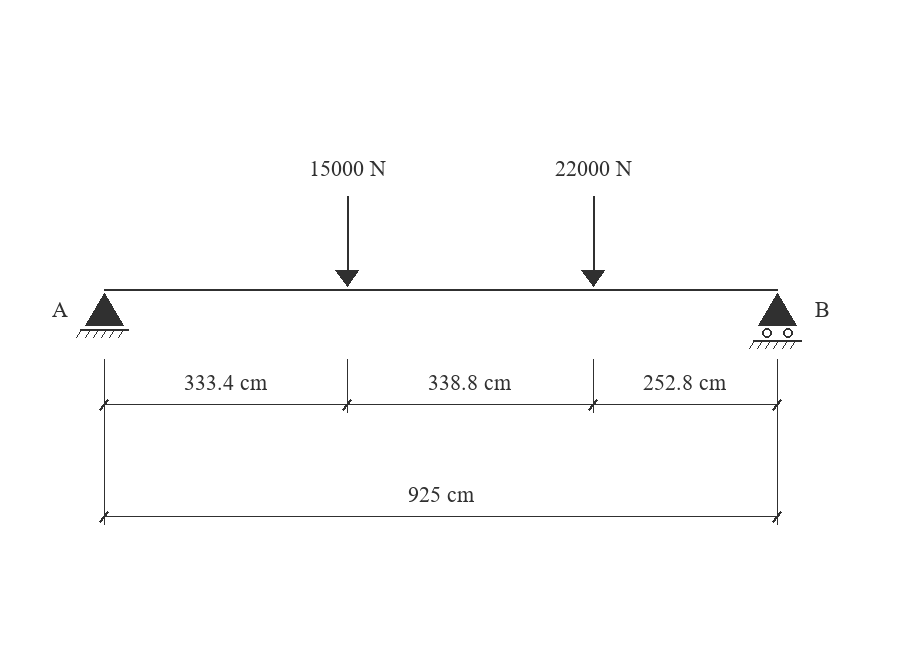pin_support: (76, 293, 129, 338)
point_load: (335, 196, 359, 287), (581, 196, 605, 287)
roller_support: (749, 293, 802, 349)
